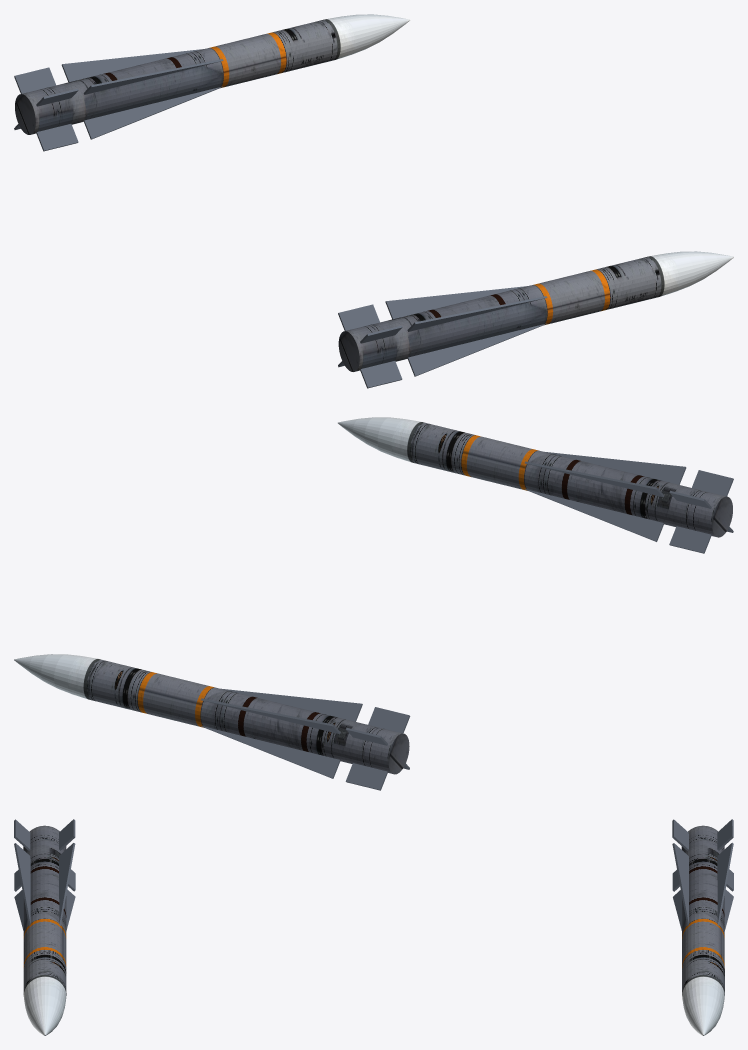
Rendered from f14baim5416.glb.
The picture shows the model from 3 angles, top to bottom: view 1: azimuth 30°, elevation 25°; view 2: azimuth 150°, elevation 25°; view 3: azimuth 270°, elevation 25°; orthographic projection.
Parts seen in each view (by area): view 1: 立方体.001, 立方体.046; view 2: 立方体.001, 立方体.046; view 3: 立方体.001, 立方体.046.
Boxes of the visible parts, x1,y1,x2,y2 form: 立方体.001: (338,251,733,388); 立方体.046: (14,14,409,151); 立方体.001: (338,417,733,553); 立方体.046: (14,654,410,790); 立方体.001: (14,819,75,1035); 立方体.046: (672,819,733,1035).
Bounding box in the file's own units: 4.61 × 0.6288 × 7.35.
3 materials, 1 textured.
